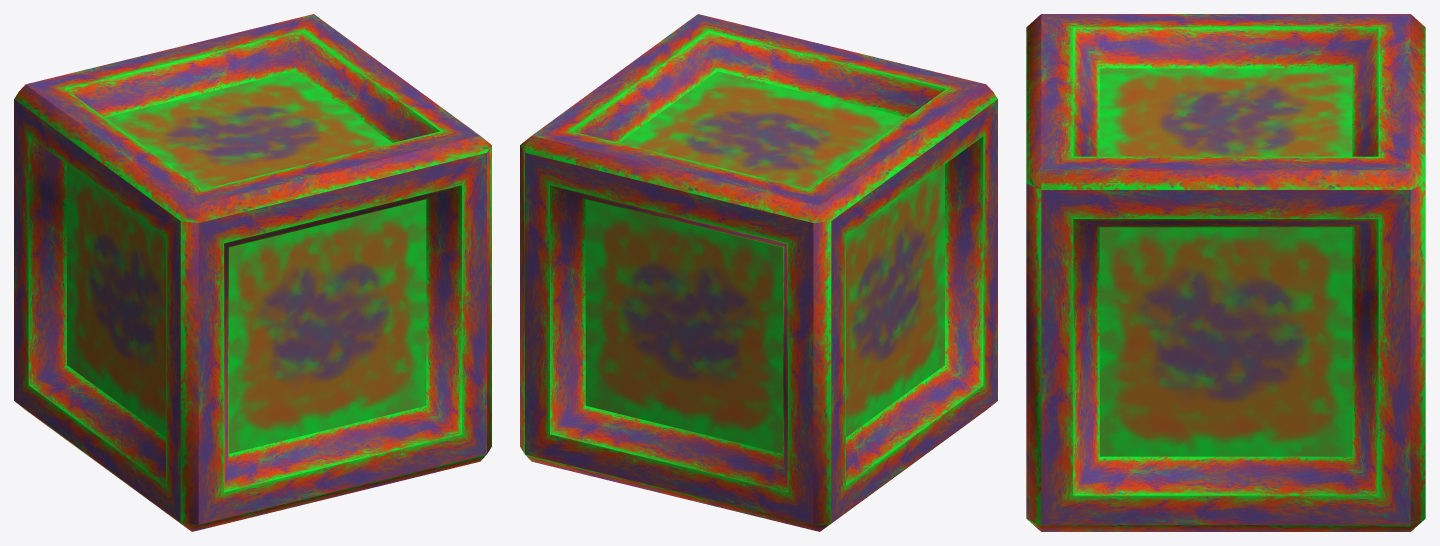
Rendered from PRM Red Block.fbx.
3 views of the same model, side by side, from view 1: azimuth 30°, elevation 25°; view 2: azimuth 150°, elevation 25°; view 3: azimuth 270°, elevation 25° (orthographic). The views are drawn at different scales.
Parts seen in each view (by area): view 1: Block; view 2: Block; view 3: Block.
Part boxes in pixels (x1,y1,x2,y2): Block: (14,14,491,531); Block: (520,14,997,531); Block: (1026,14,1425,531).
Bounding box in the file's own units: 424 × 424 × 424.
